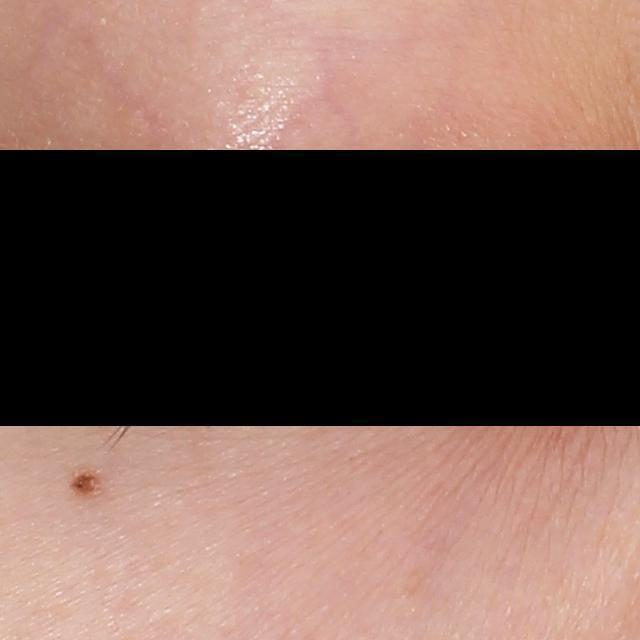nevus: (66, 465, 108, 499)
